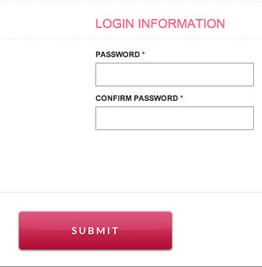button: (18, 211, 172, 251)
field: (93, 60, 255, 87), (93, 104, 255, 131)
